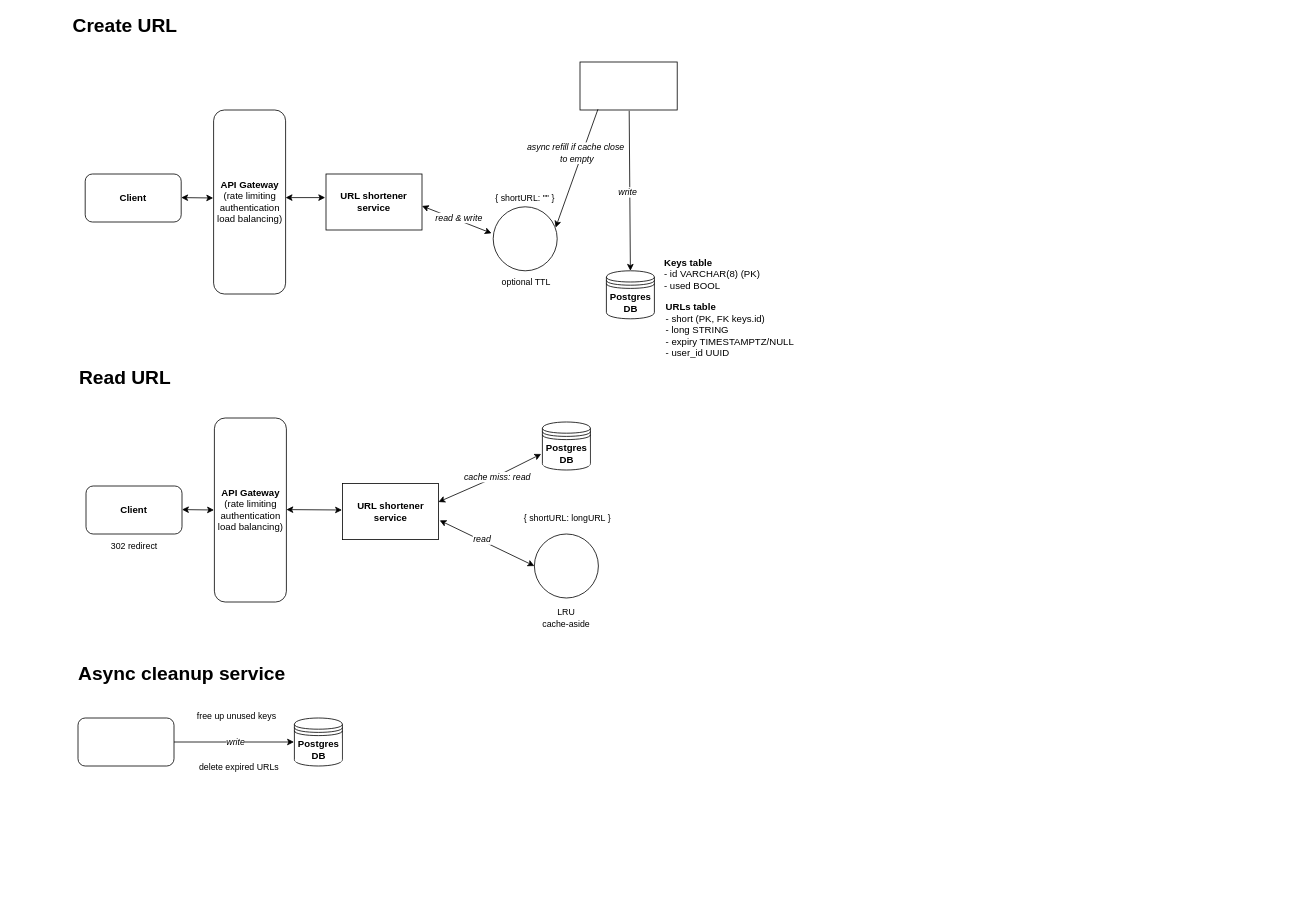
The diagram is 1299 pixels wide and 898 high, and some of its shapes have lost their labels. Each missing label, with the centre of its shape:
Cleanup (cron): the point at 125,741
Key generation (cron): the point at 628,85
Redis keys cache: the point at 524,238
Redis URLs cache: the point at 566,565
